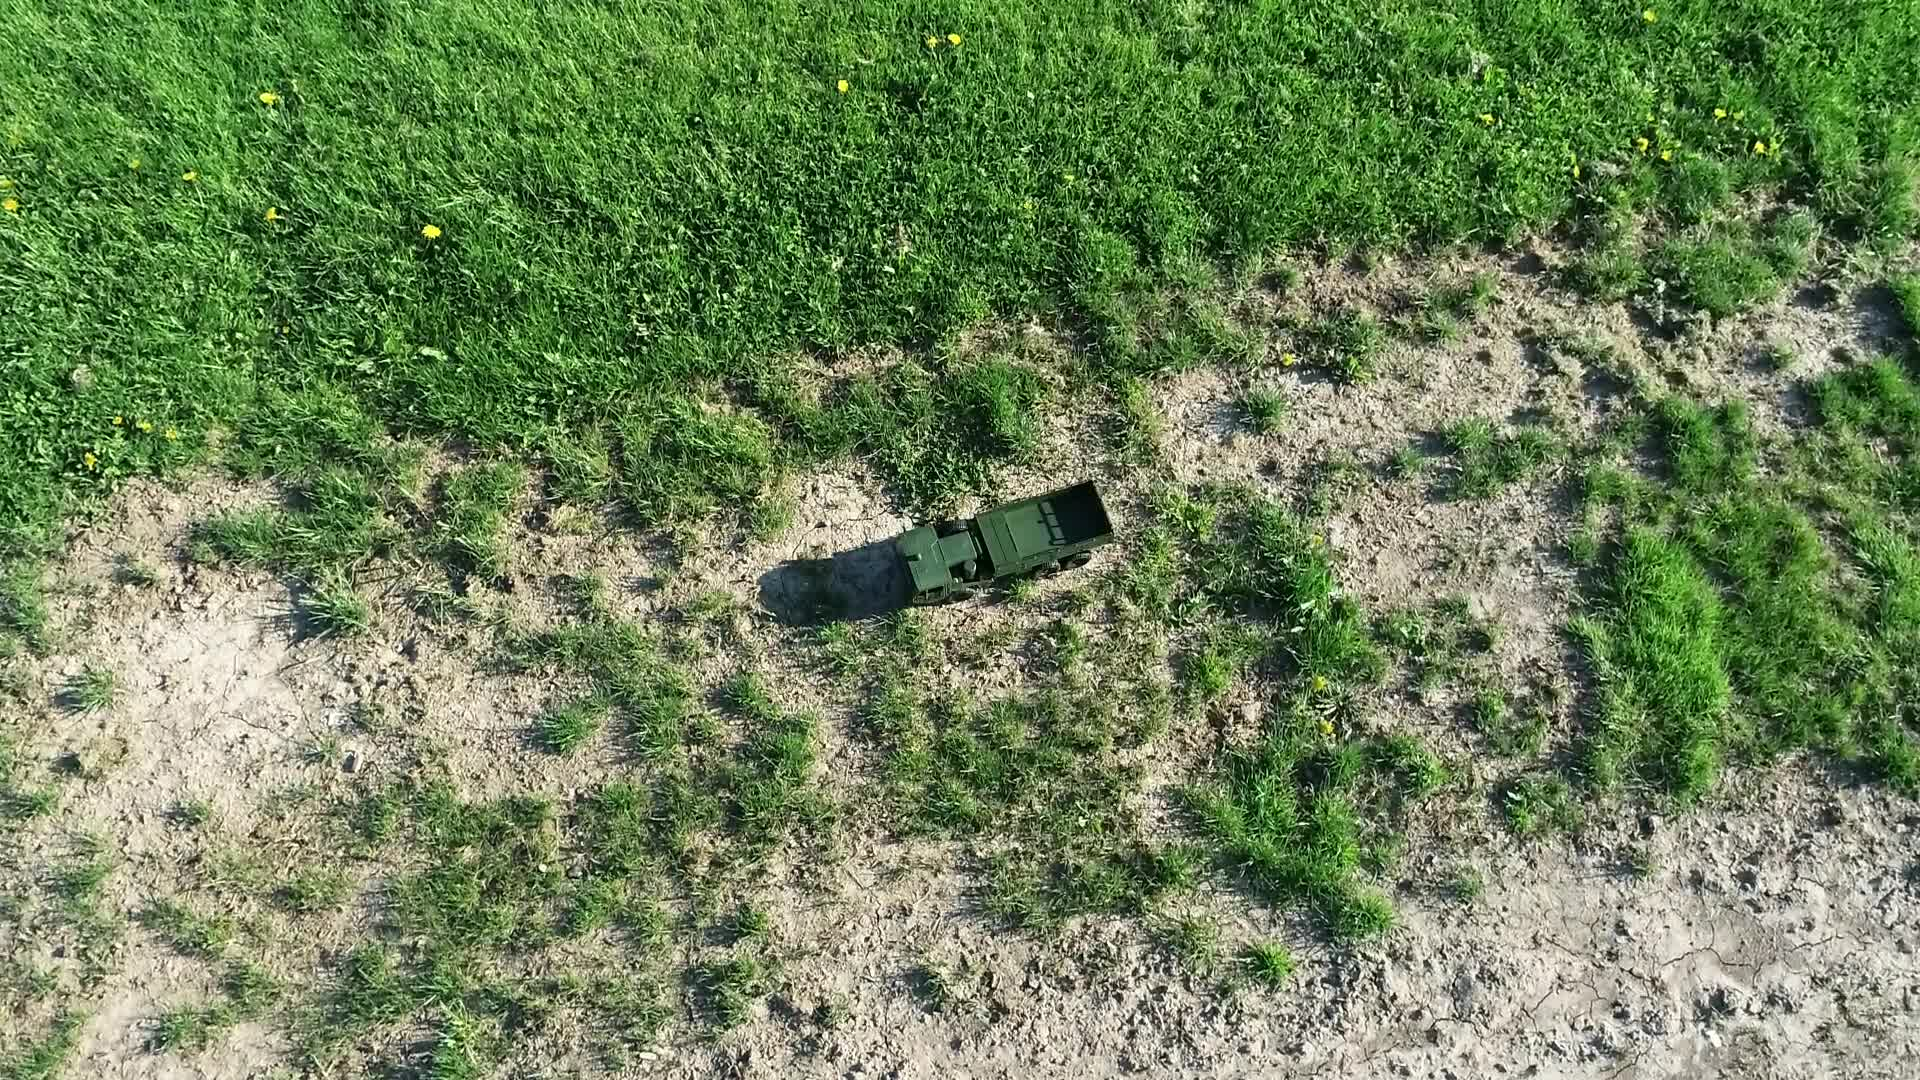transporter9: (887, 469, 1117, 607)
